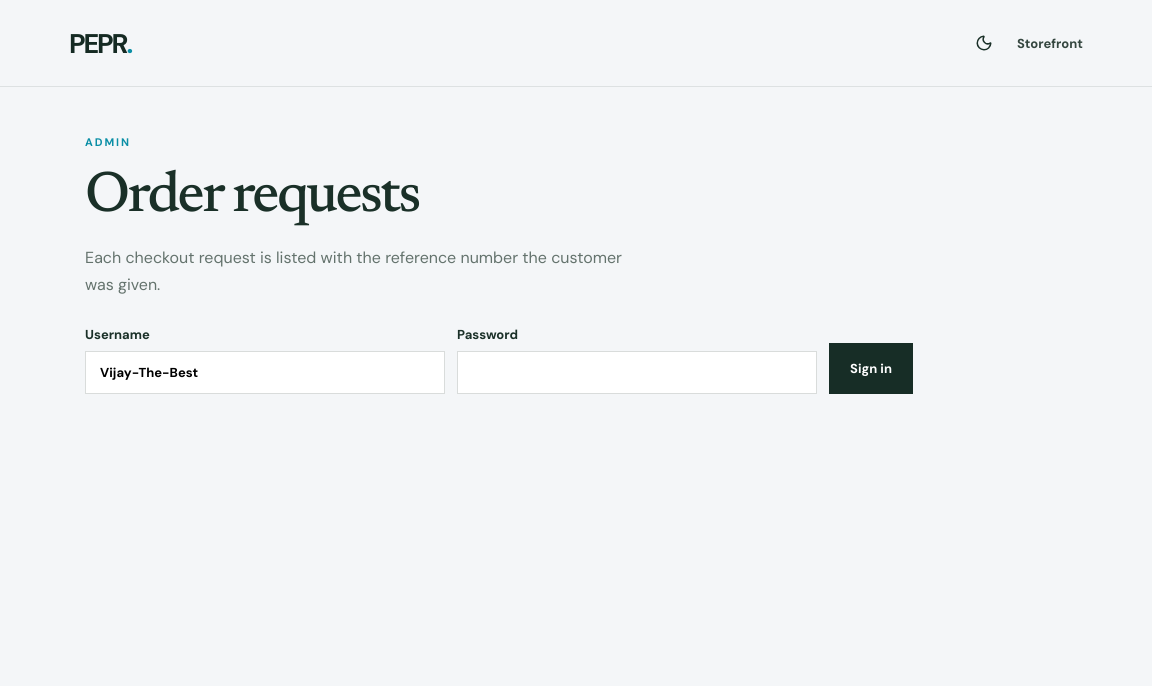
Test: admin order page › shows reference numbers returned by the admin endpoint
This screenshot has width=1152, height=686.
expect the field labelled "Username" holds "Vijay-The-Best": met, box 85,351 -> 445,394
Type "current-password" into the password field labelled "Password" at (637, 373), box 457,351 -> 817,394
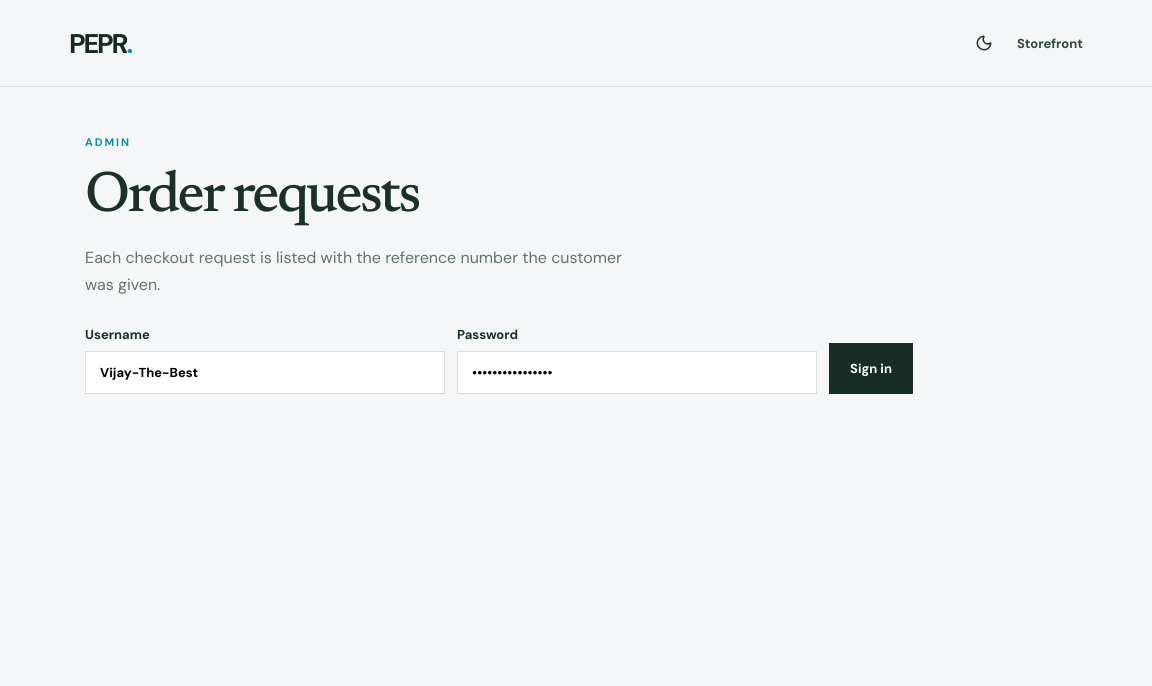
Click the button "Sign in" at (871, 369), box 829,343 -> 913,394
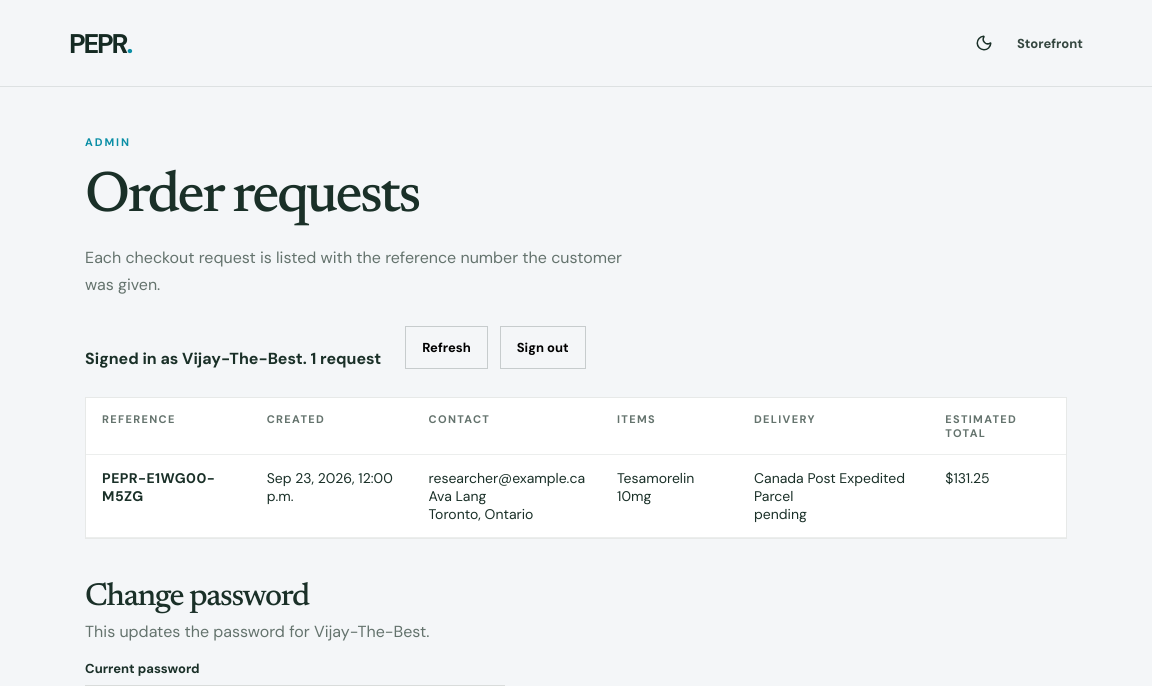
expect the text "Tesamorelin 10mg" is shown: met, box 601,455 -> 738,538
expect the cell "researcher@example.ca" is shown: met, box 412,455 -> 601,538
